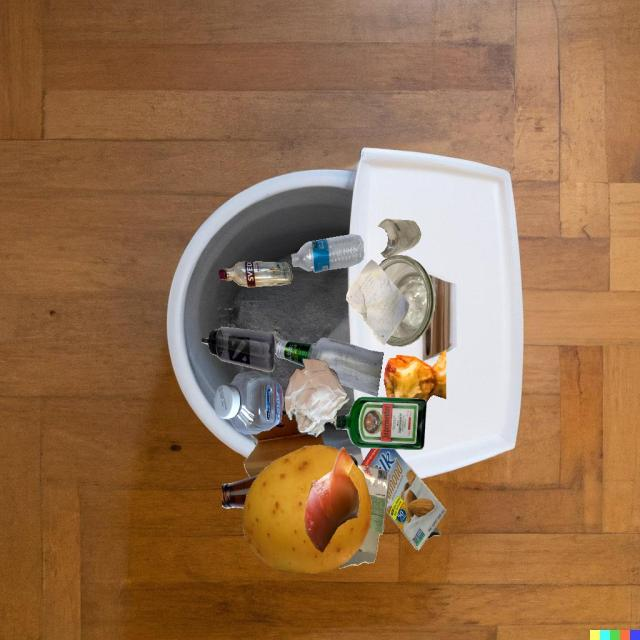biowaste: (243, 445, 371, 574), (304, 447, 359, 552), (384, 349, 447, 403)
cardboard: (361, 448, 446, 551), (243, 403, 324, 477), (339, 465, 390, 569)
glass: (275, 337, 384, 397), (379, 255, 435, 347), (334, 397, 427, 450), (257, 385, 340, 444), (219, 261, 292, 287), (378, 219, 421, 258), (222, 475, 259, 508)
paper: (346, 259, 409, 345), (284, 358, 349, 437), (426, 527, 441, 540)
plastic: (214, 371, 283, 434), (201, 326, 275, 372), (292, 234, 364, 273)
